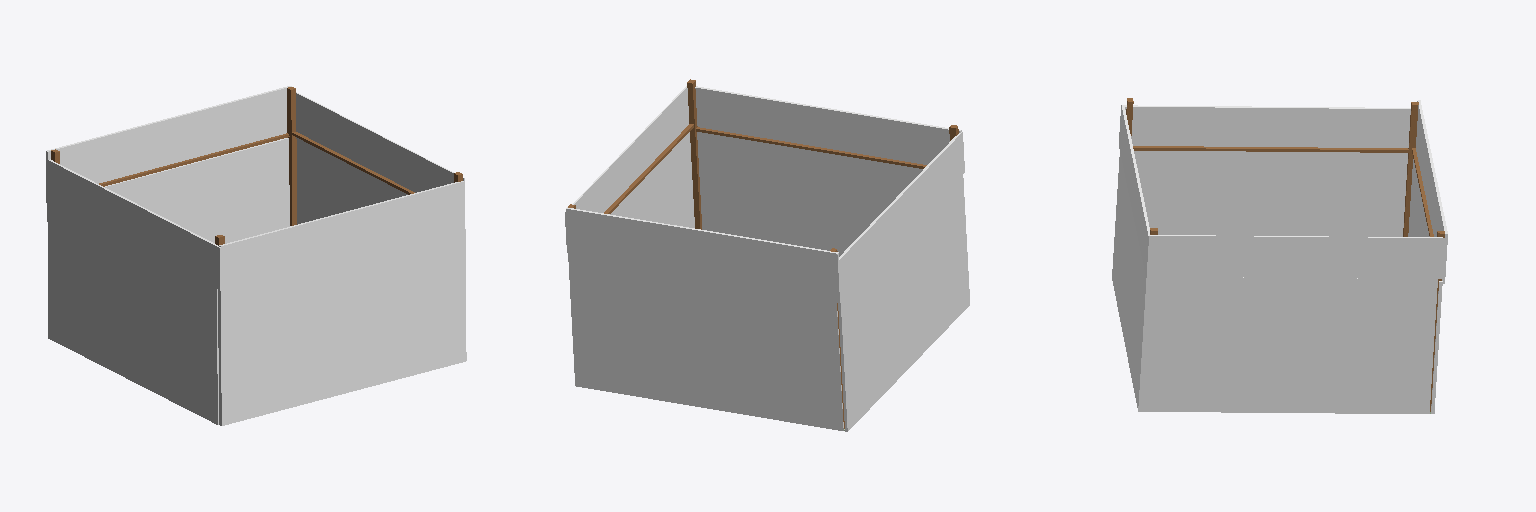
The model's file is roomSceme.obj.
The picture shows the model from 3 angles: view 1: azimuth 30°, elevation 25°; view 2: azimuth 150°, elevation 25°; view 3: azimuth 270°, elevation 25°; orthographic projection.
Visible parts, largest first — view 1: room; view 2: room; view 3: room.
Boxes of the visible parts, x1,y1,x2,y2 form: room: [46, 86, 466, 425]; room: [565, 79, 969, 431]; room: [1112, 98, 1447, 413].
Bounding box in the file's own units: 172 × 117 × 174.